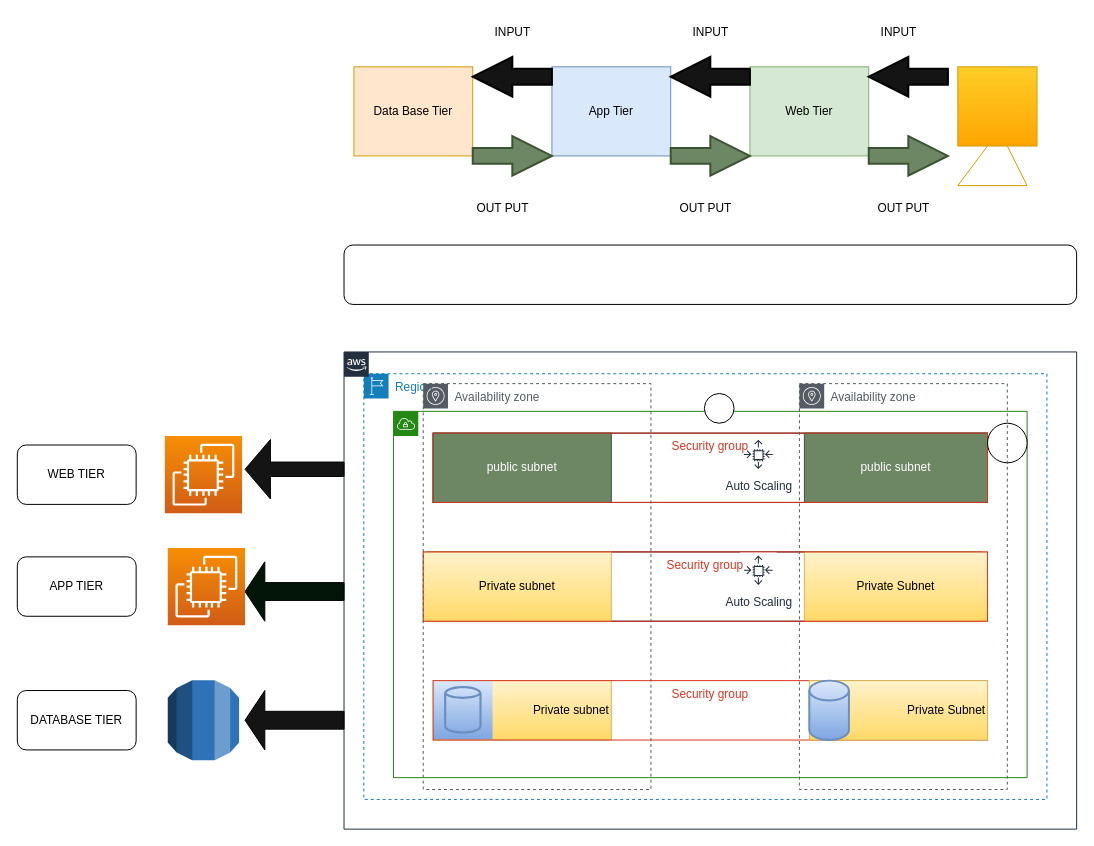
Some shapes in this 1094 by 846 pixel diagram are drawn without their labels. Each missing label, with the box of its shape:
3 TIER ARCHITECTURE: (343, 244, 1077, 304)
AWS Cloud: (343, 351, 1077, 829)
Generic database: (432, 679, 493, 740)
IGW: (703, 393, 734, 423)
NGW: (987, 422, 1027, 463)
PC: (957, 66, 1037, 146)
VPC: (393, 410, 1027, 778)
